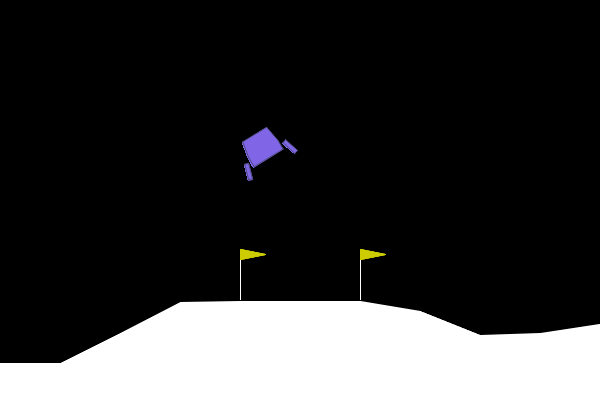lander: (227, 118, 299, 183)
